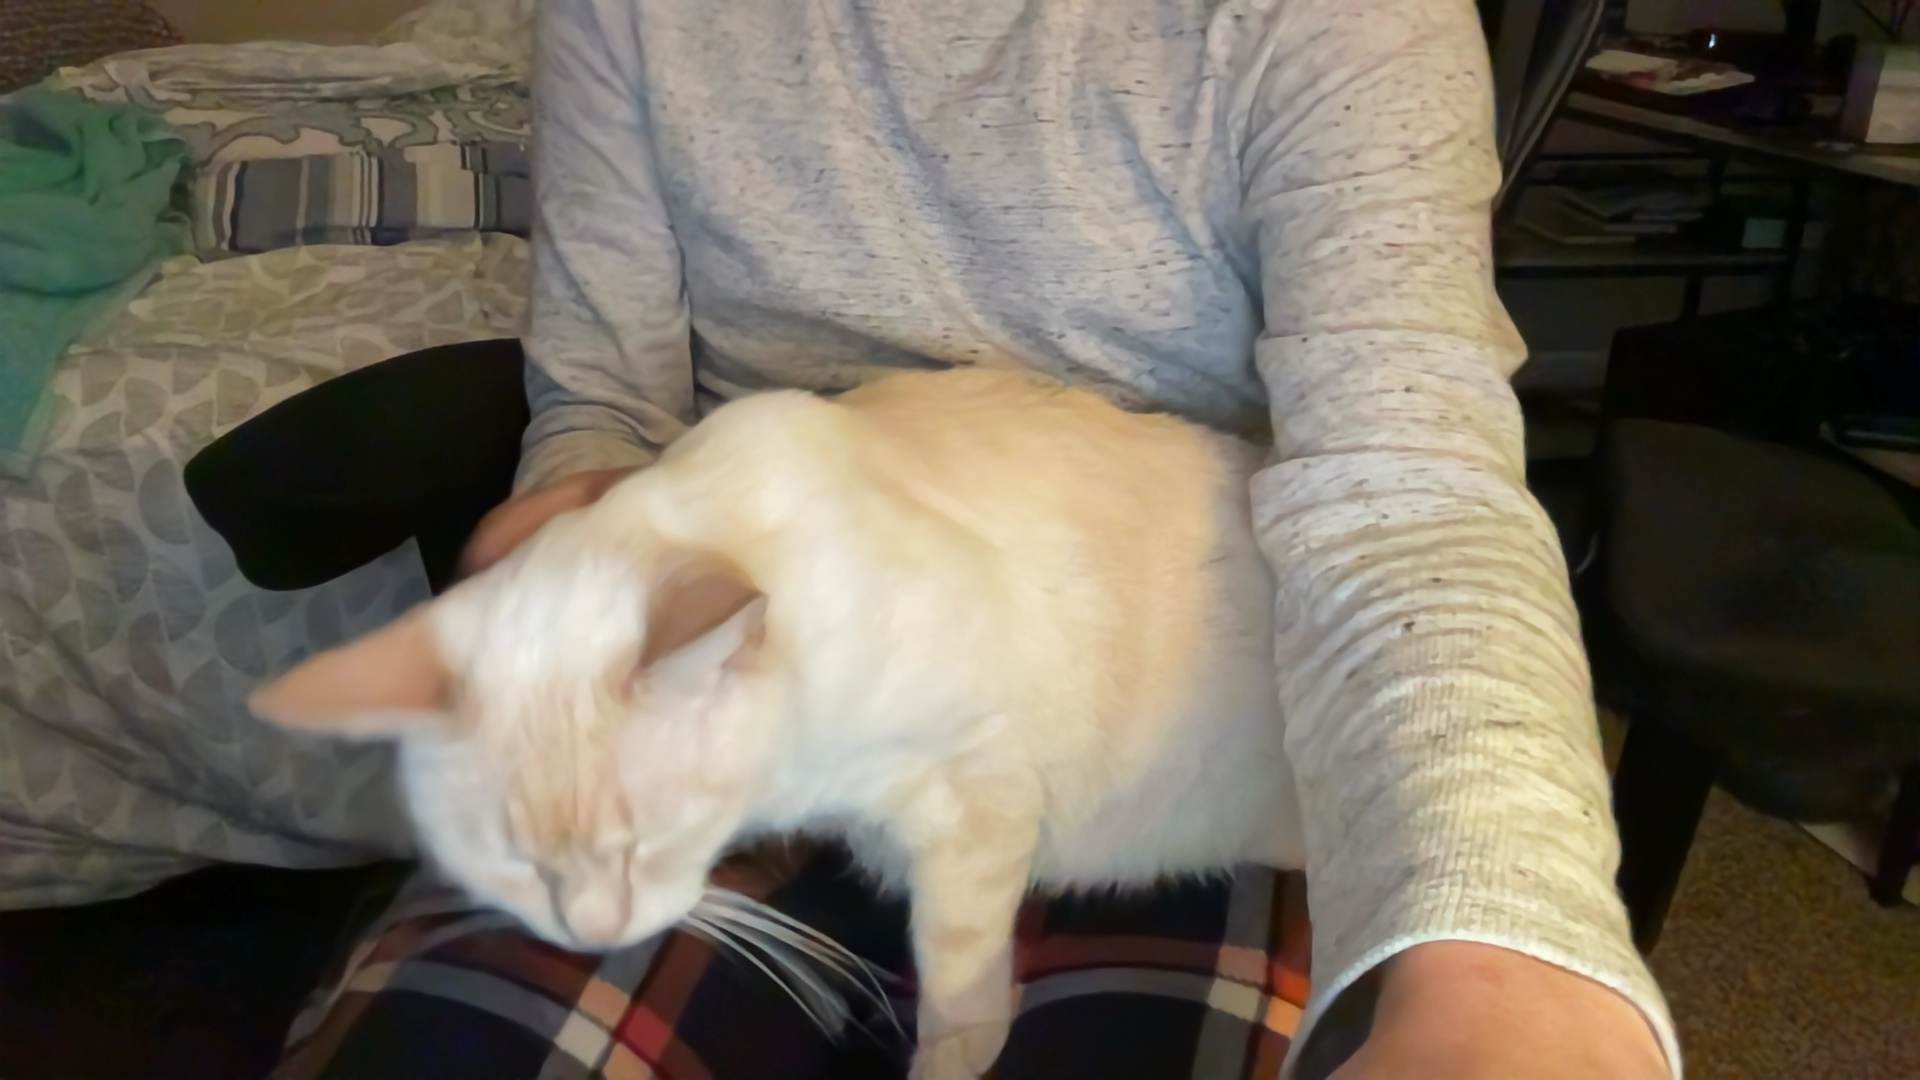cat: (280, 342, 1331, 1067)
